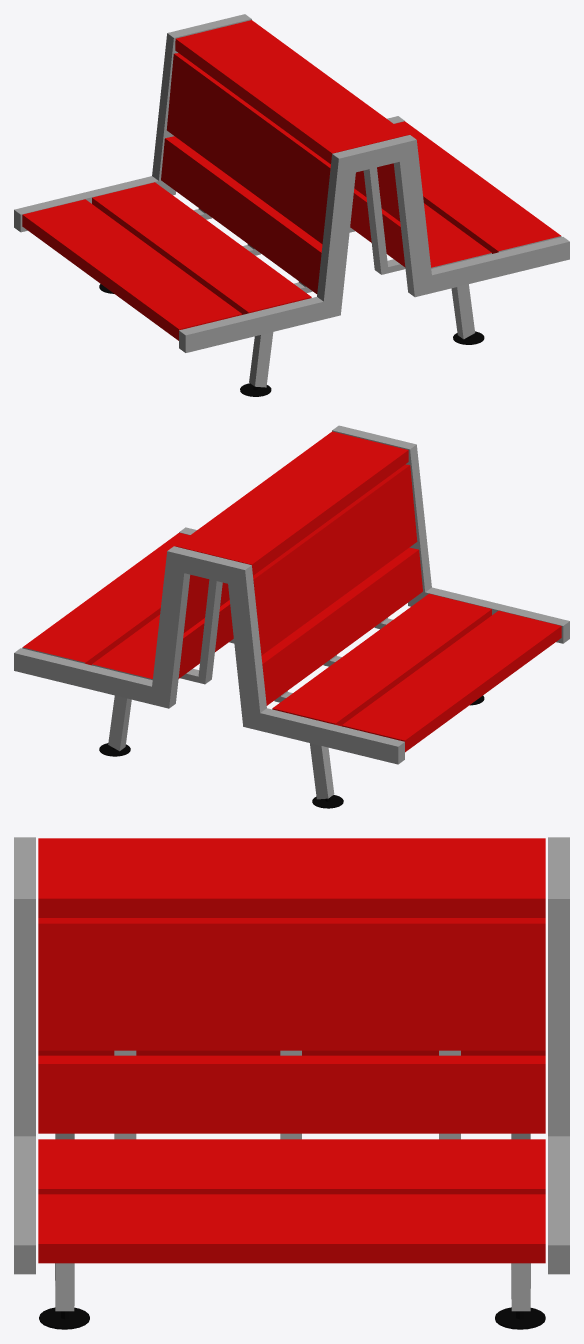
The model's file is chair-reverse.fbx.
The picture shows the model from 3 angles, top to bottom: view 1: azimuth 30°, elevation 25°; view 2: azimuth 150°, elevation 25°; view 3: azimuth 270°, elevation 25°; orthographic projection. The views are drawn at different scales.
Parts seen in each view (by area): view 1: chair_reverse; view 2: chair_reverse; view 3: chair_reverse.
Part boxes in pixels (x1,y1,x2,y2): chair_reverse: (14,14,569,396); chair_reverse: (14,425,569,808); chair_reverse: (14,837,569,1329).
Size of the model in its own units: 338 by 190 by 261.
